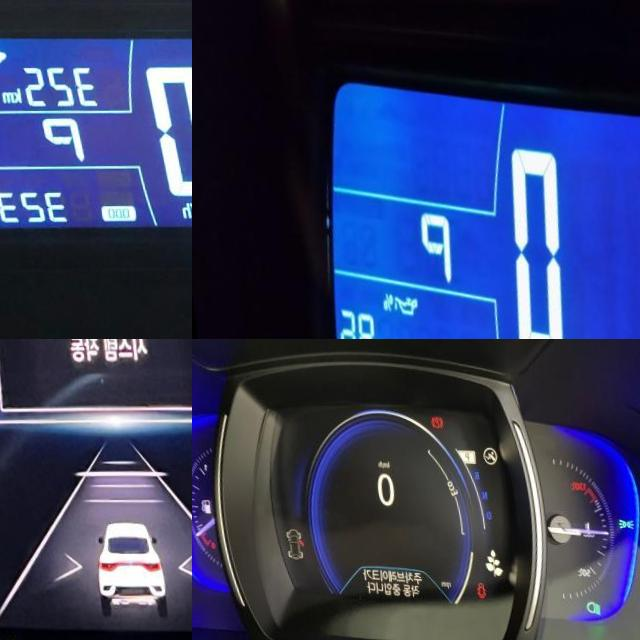Doors: (467, 582, 478, 599)
Low beam: (577, 603, 592, 618)
SideLamp: (610, 519, 627, 531)
